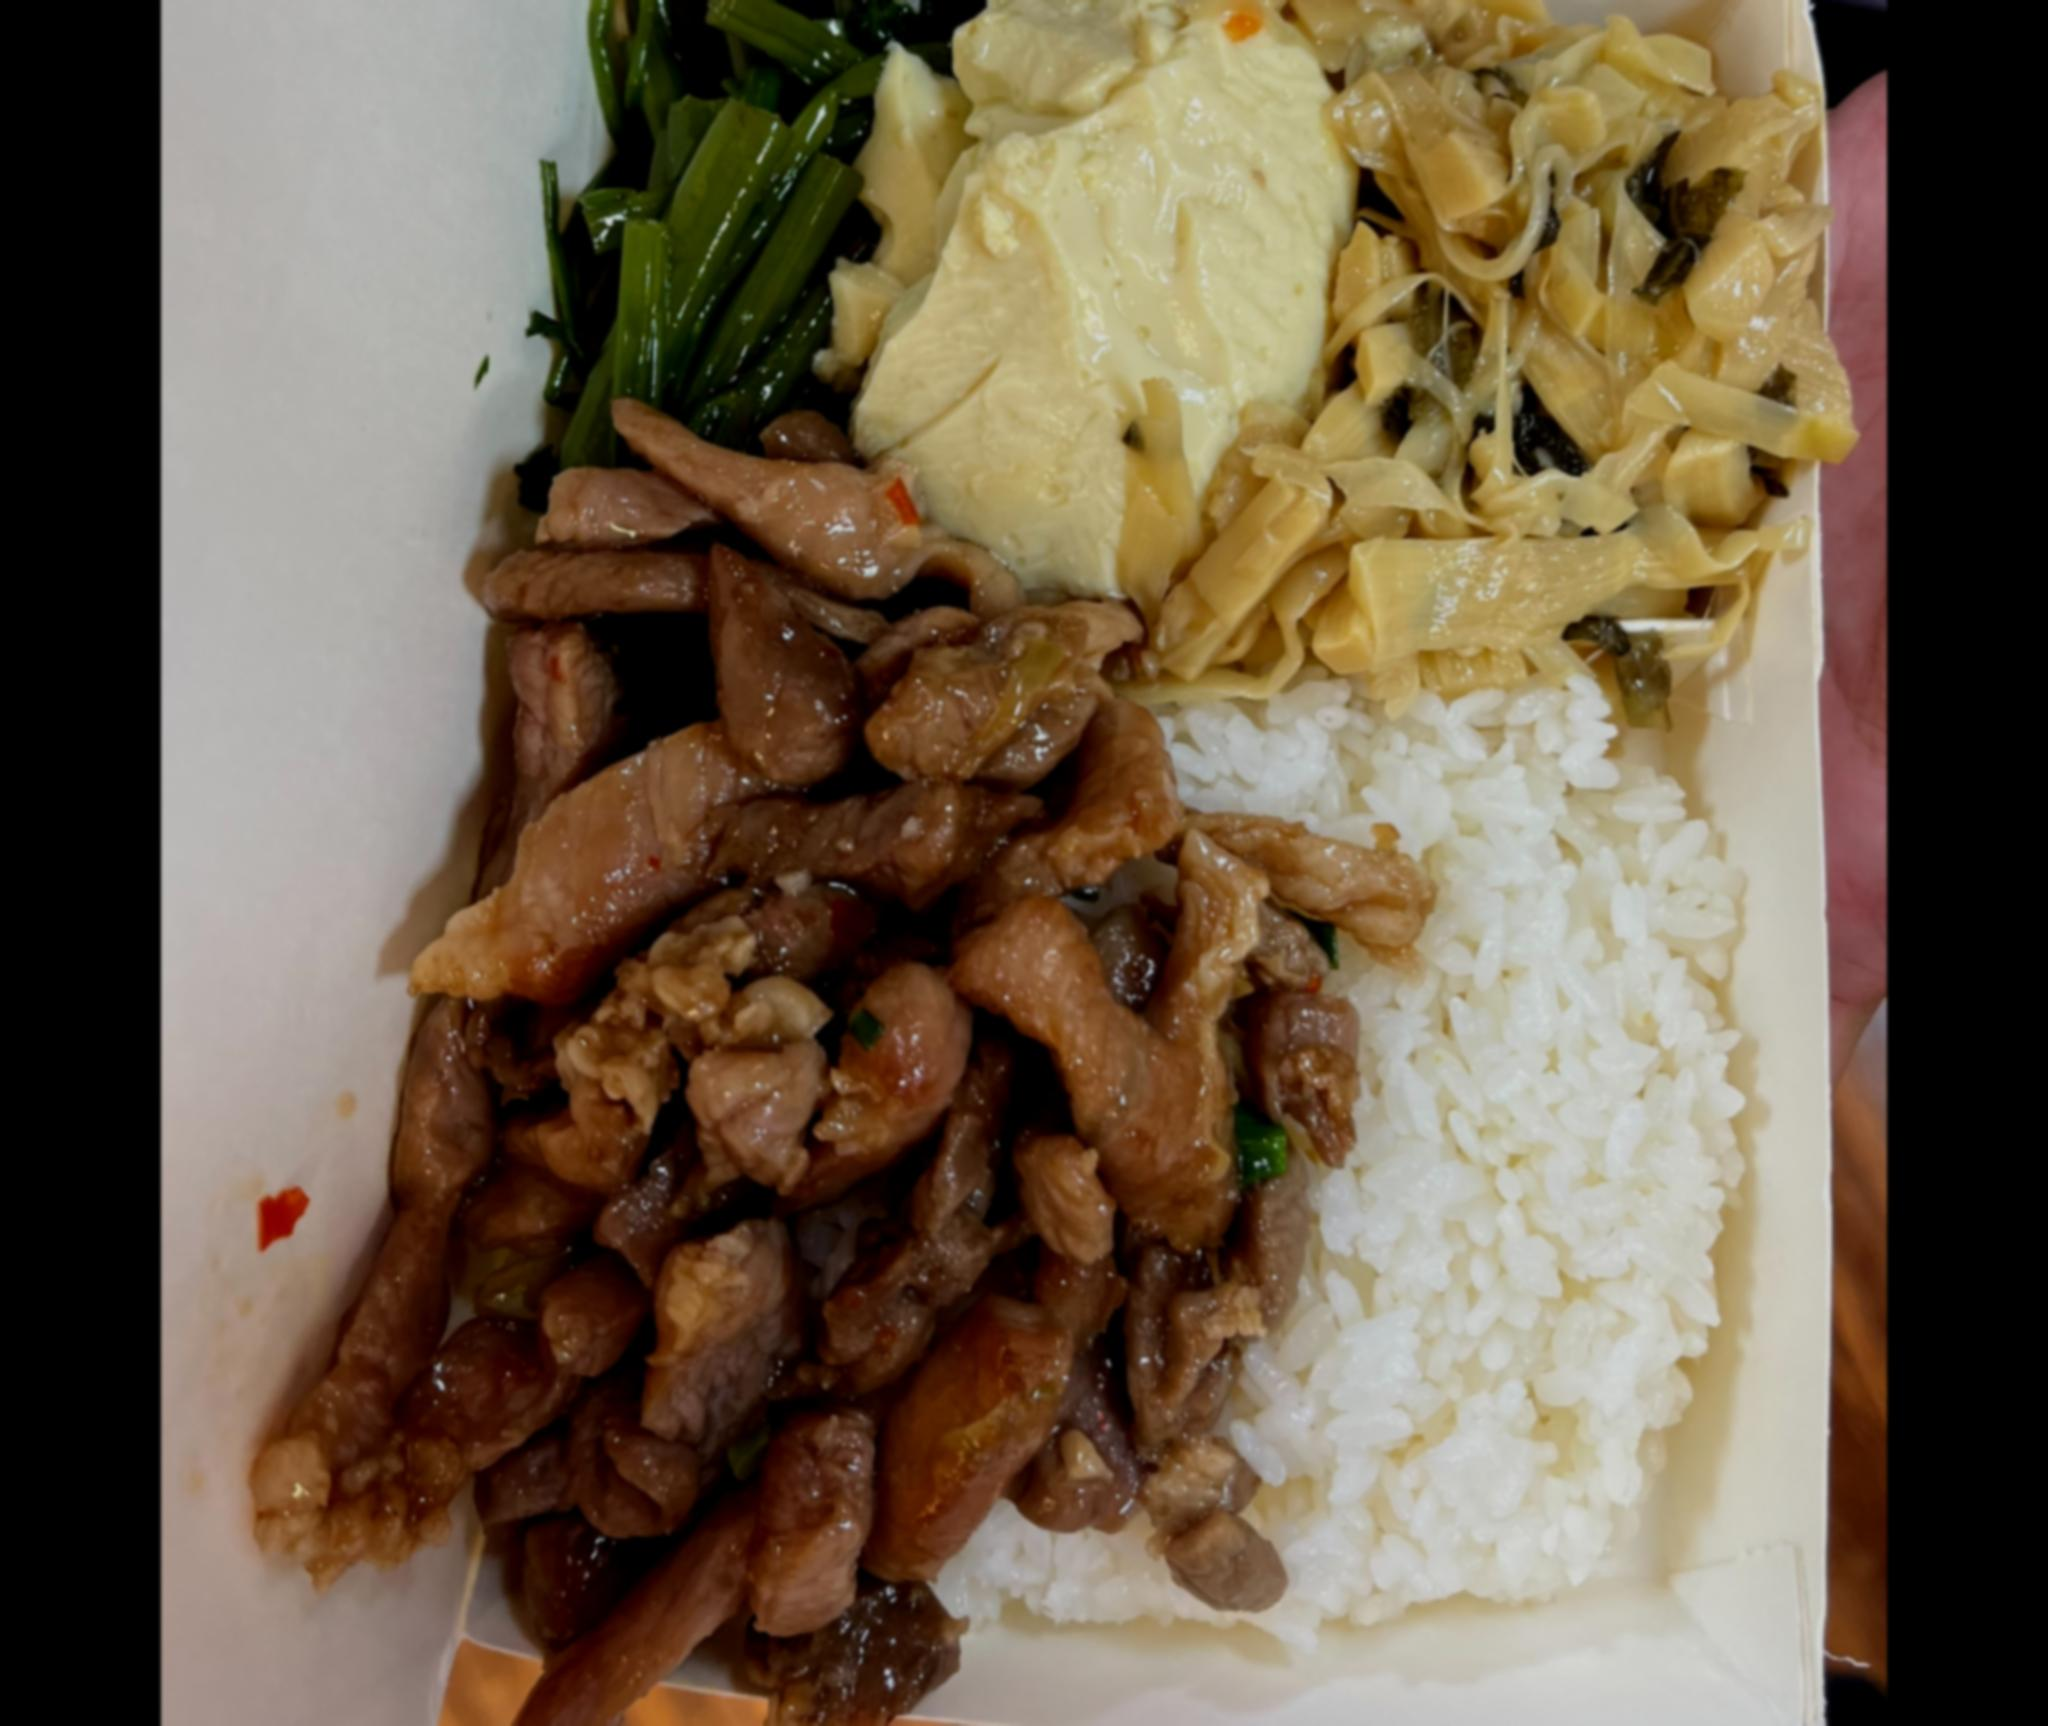big grilled chicken leg: (342, 0, 1872, 1726)
big herbal chicken leg: (937, 637, 1764, 1628)
braised fish fillet: (1301, 0, 1805, 678), (870, 0, 1339, 586), (514, 0, 956, 481)
braised pork: (259, 440, 1329, 1726)
